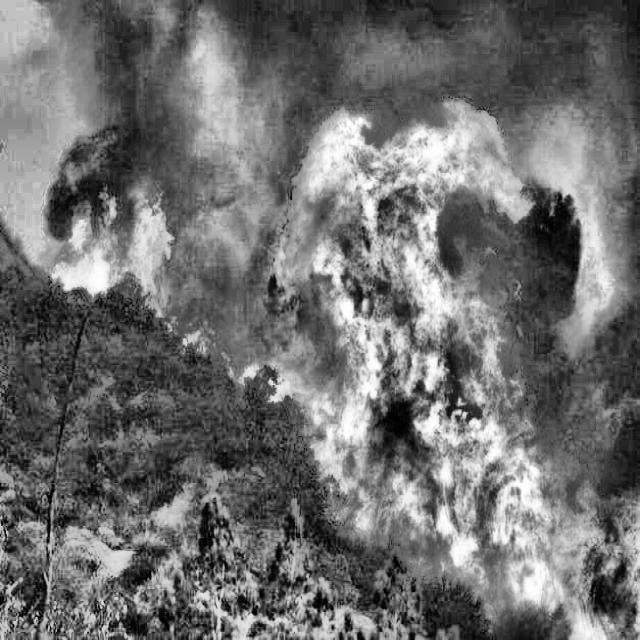fire: (266, 113, 615, 640), (21, 91, 201, 372)
